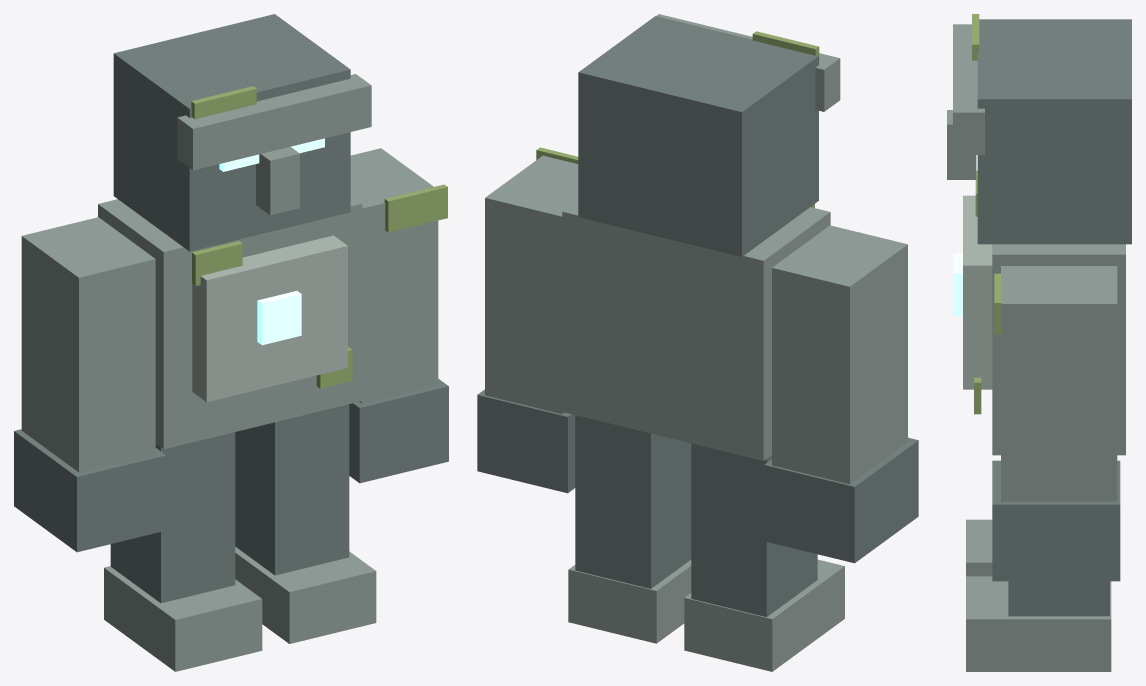
File: sentinel.glb
The picture shows the model from 3 angles, left to right: view 1: azimuth 30°, elevation 25°; view 2: azimuth 150°, elevation 25°; view 3: azimuth 270°, elevation 25°; orthographic projection.
Visible parts, largest first — view 1: head.002, arm_mesh, body.001, breastplate, leg_mesh.005, arm_mesh.001, leg_mesh.004, fist, foot, brow, foot.001, fist.001 (+7 smaller); view 2: head.002, body.001, arm_mesh, arm_mesh.001, leg_mesh.005, leg_mesh.004, fist, foot, fist.001, foot.001, brow, moss_patch.002; view 3: head.002, arm_mesh.001, fist.001, foot.001, body.001, breastplate, leg_mesh.005, brow, foot, nose.001, heart, moss_patch.003 (+2 smaller).
Part boxes in pixels (box(x1,y1,x2,y2)): head.002: box(113, 14, 350, 251); arm_mesh: box(21, 217, 155, 472); body.001: box(98, 195, 362, 449); breastplate: box(192, 235, 347, 402); leg_mesh.005: box(235, 404, 349, 575); arm_mesh.001: box(350, 148, 438, 403); leg_mesh.004: box(110, 432, 235, 603); fist: box(14, 429, 166, 552); foot: box(104, 566, 262, 671); brow: box(177, 74, 371, 170); foot.001: box(235, 547, 376, 643); fist.001: box(349, 379, 448, 483); head.002: box(578, 16, 818, 256); body.001: box(562, 200, 830, 460); arm_mesh: box(772, 225, 907, 484); arm_mesh.001: box(485, 155, 578, 414); leg_mesh.005: box(575, 415, 691, 588); leg_mesh.004: box(691, 443, 817, 617); fist: box(764, 437, 918, 563); foot: box(684, 559, 844, 671); fist.001: box(477, 389, 575, 493); foot.001: box(568, 560, 691, 643); brow: box(656, 14, 840, 111); moss_patch.002: box(752, 31, 819, 62); head.002: box(977, 19, 1131, 244); arm_mesh.001: box(1001, 266, 1117, 501); fist.001: box(992, 460, 1120, 581); foot.001: box(966, 576, 1111, 671); body.001: box(992, 244, 1125, 455); breastplate: box(963, 195, 992, 389); leg_mesh.005: box(1008, 581, 1109, 616); brow: box(953, 24, 984, 154); foot: box(966, 519, 992, 576); nose.001: box(947, 110, 976, 179); heart: box(953, 253, 962, 315); moss_patch.003: box(994, 273, 1001, 334).
Bounding box in the file's own units: 1.5 × 2.16 × 0.635.
